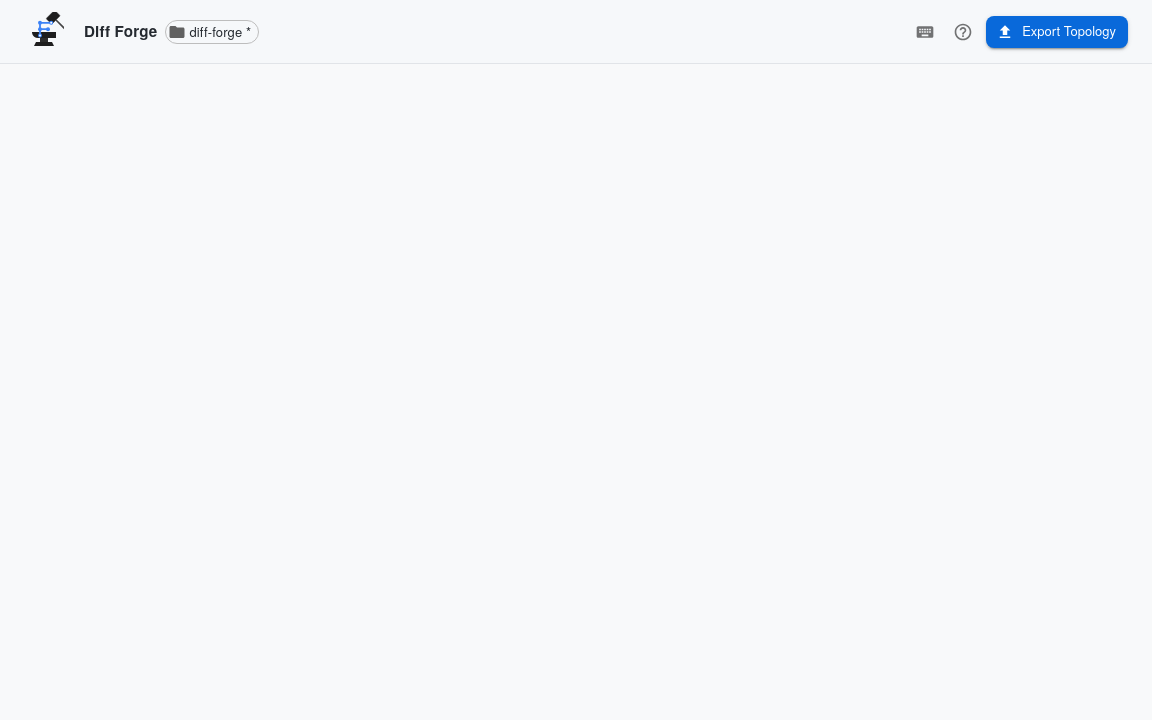
Scenario: Topbar › asks for confirmation before switching when graph is dirty
The image size is (1152, 720).
Click the button with aria-label "switch workspace".
click(212, 32)  # box [166,20,259,44]
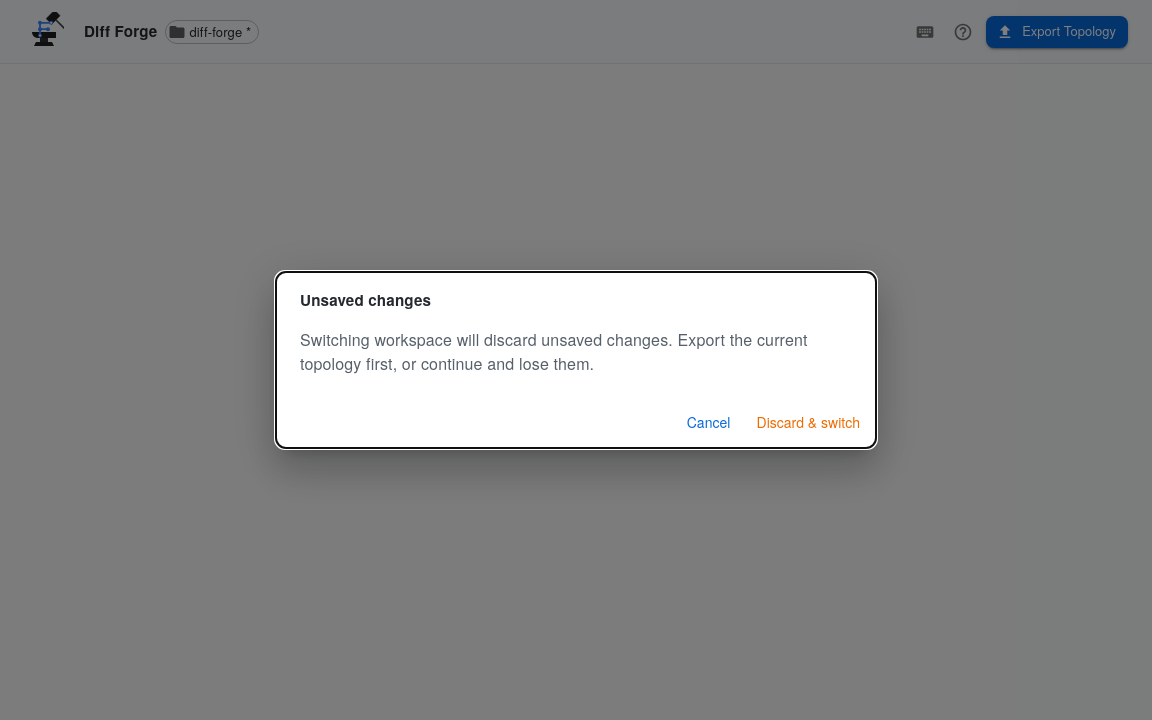
Now the heading "Unsaved changes" is shown, box [300,289,431,311]
